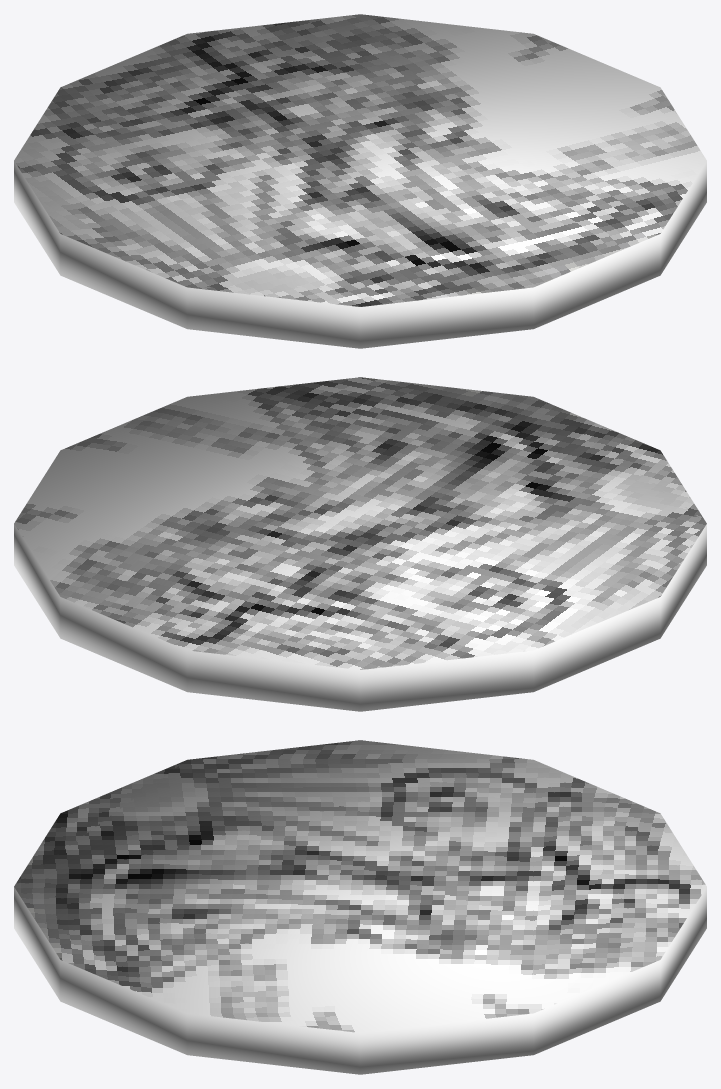
Rendered from WorldItem-HCMoney_SilverCoin.fbx.
The picture shows the model from 3 angles, top to bottom: view 1: azimuth 30°, elevation 25°; view 2: azimuth 150°, elevation 25°; view 3: azimuth 270°, elevation 25°; orthographic projection.
Visible parts, largest first — view 1: SilverCoin; view 2: SilverCoin; view 3: SilverCoin.
Boxes of the visible parts, left/top/right/bottom form: SilverCoin: left=14, top=14, right=706, bottom=348; SilverCoin: left=14, top=377, right=706, bottom=711; SilverCoin: left=14, top=740, right=706, bottom=1074.
Size of the model in its own units: 0.0335 by 0.00222 by 0.0335.
